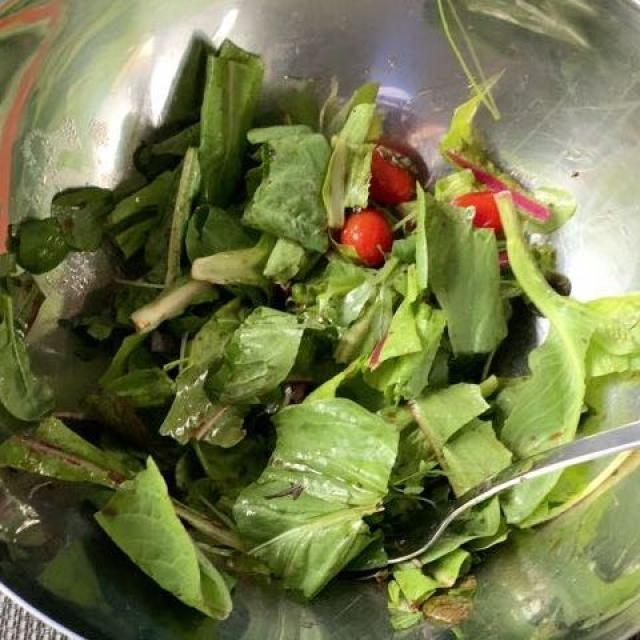salad: (1, 10, 625, 590)
tomato: (332, 136, 564, 285)
